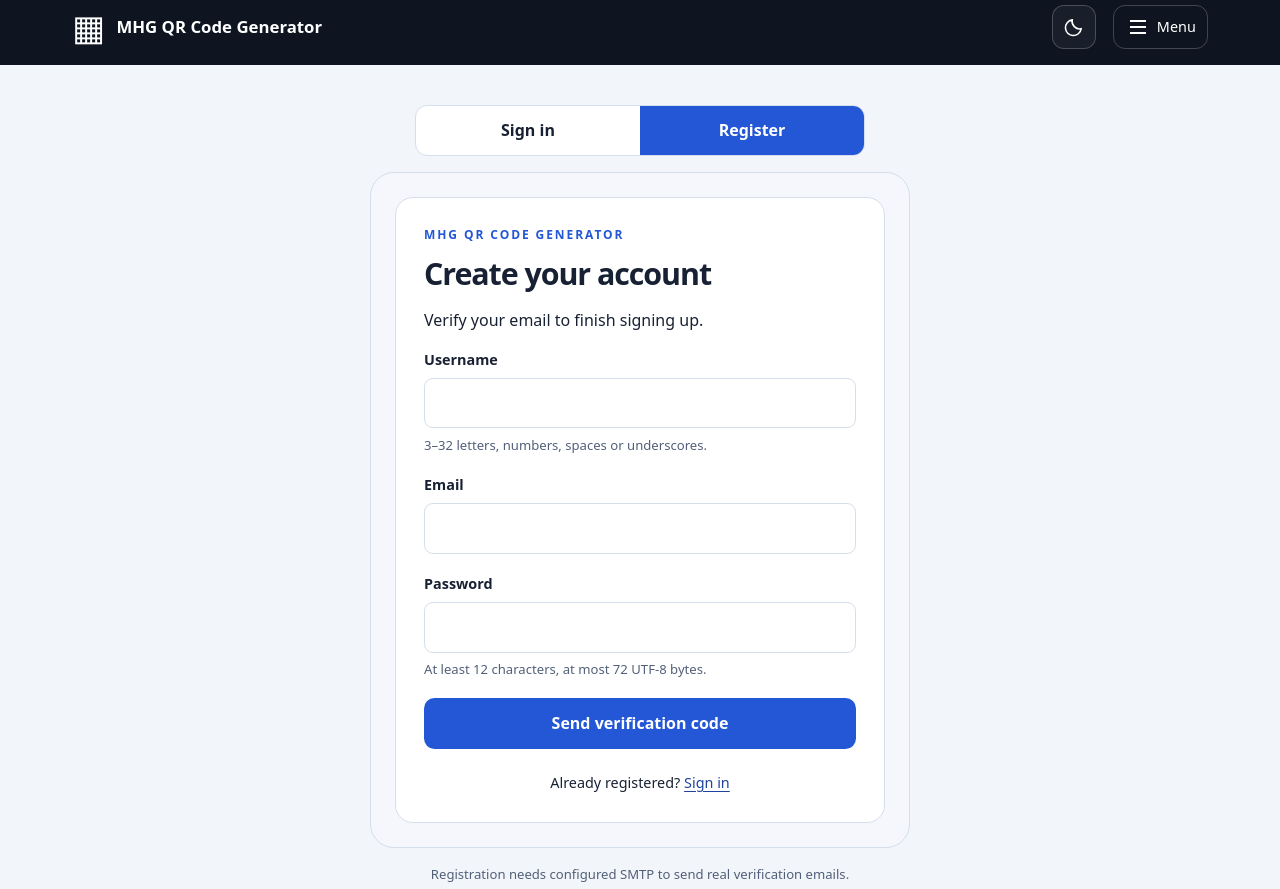
Test: registration requires a server challenge and passes proof to account creation
Type "person" into the field labelled "Username".
click(640, 403); type("person")  # box [424,378,856,428]
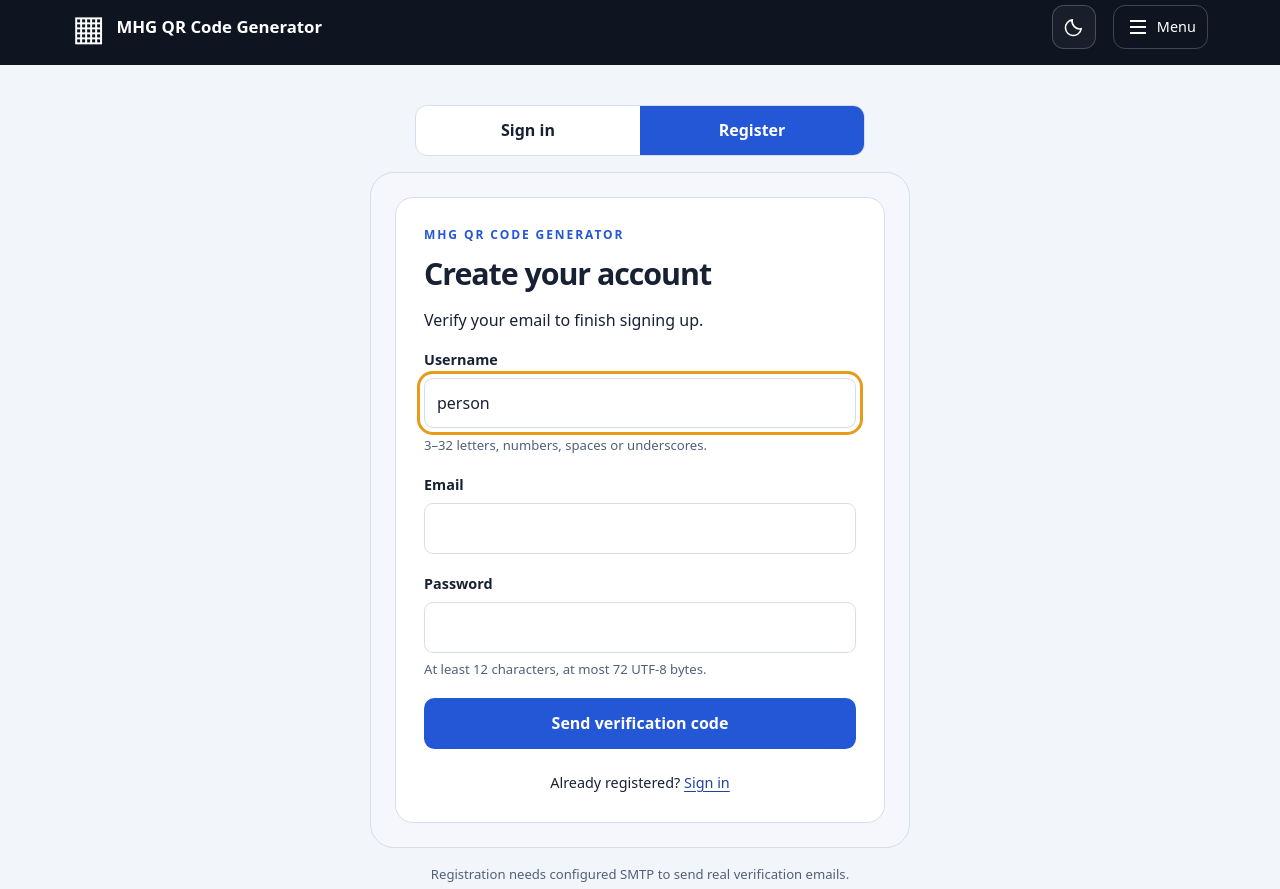
Type "person@example.com" into the field labelled "Email".
click(640, 528); type("person@example.com")  # box [424,503,856,554]
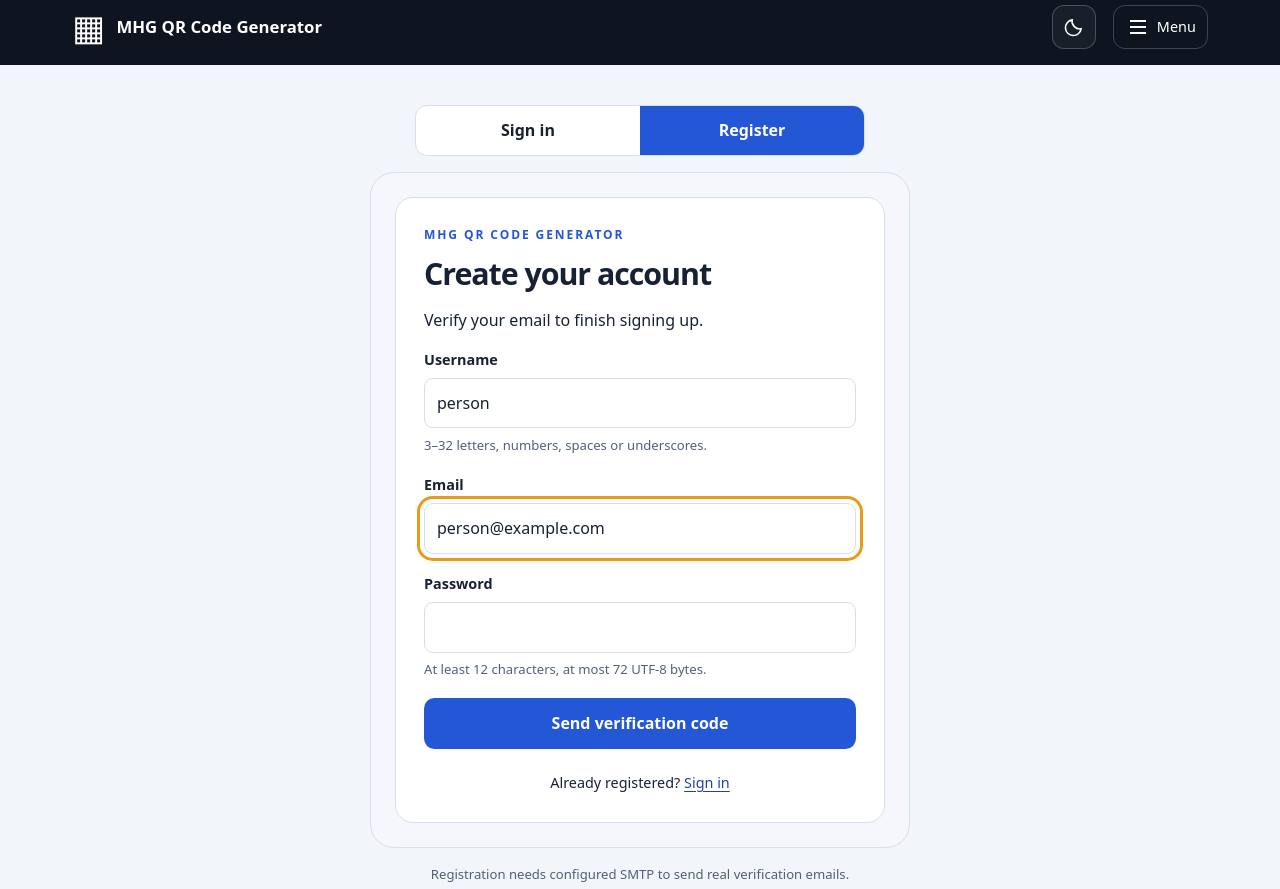
Type "long secret password" into the password field labelled "Password".
click(640, 627); type("long secret password")  # box [424,602,856,652]
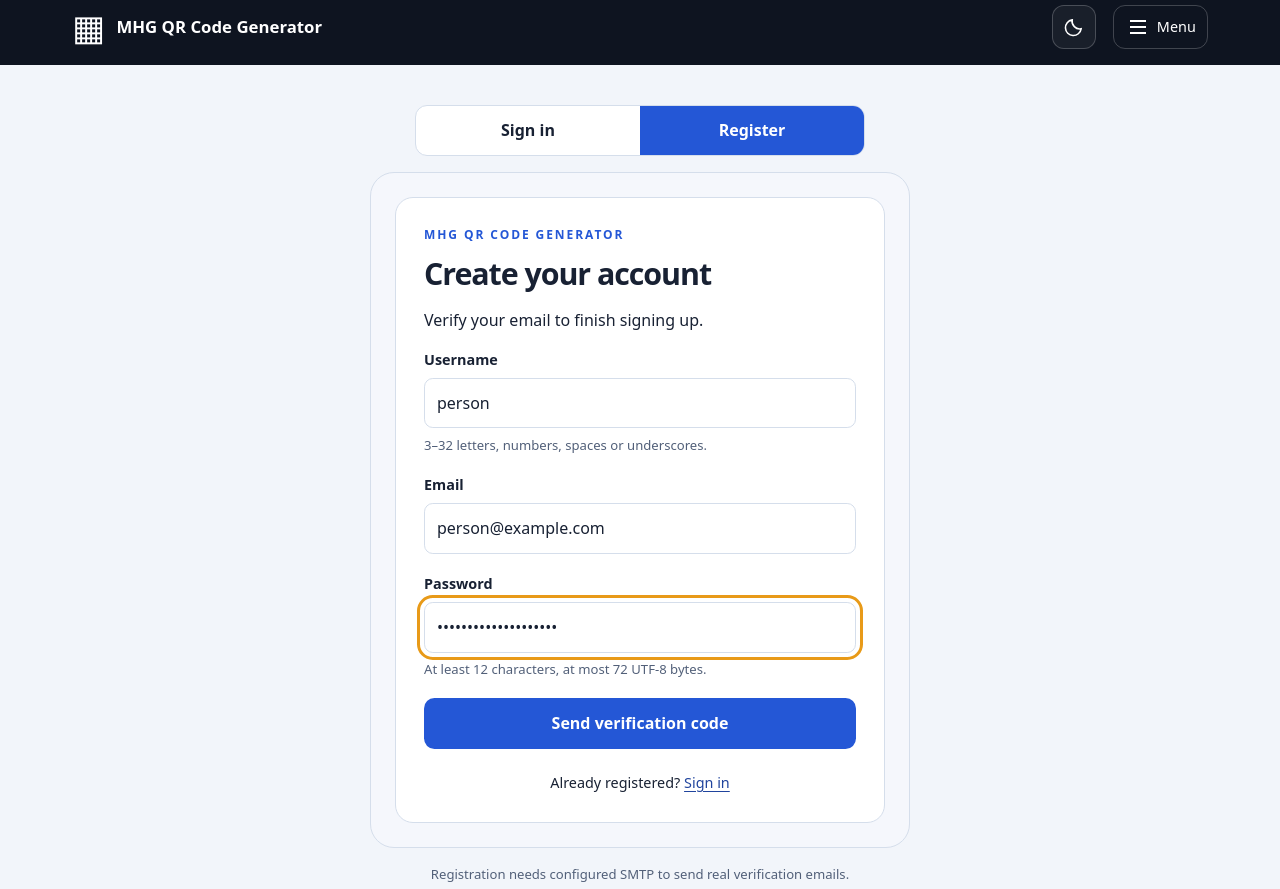
Click the button "Send verification code".
click(640, 724)  # box [424,698,856,749]
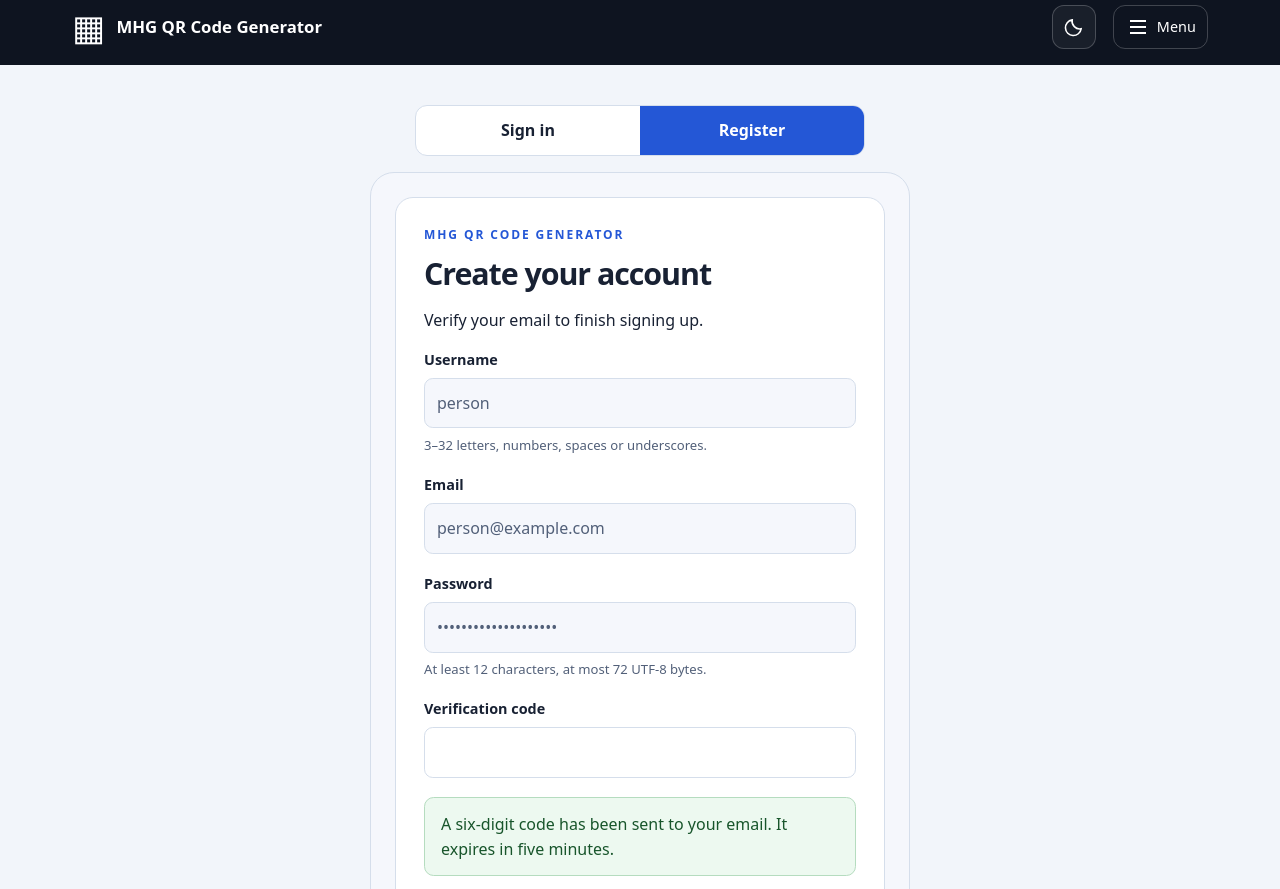
Expected: the field labelled "Verification code" is shown
Type "123456" into the field labelled "Verification code".
click(640, 753); type("123456")  # box [424,727,856,778]
(page scrolled)
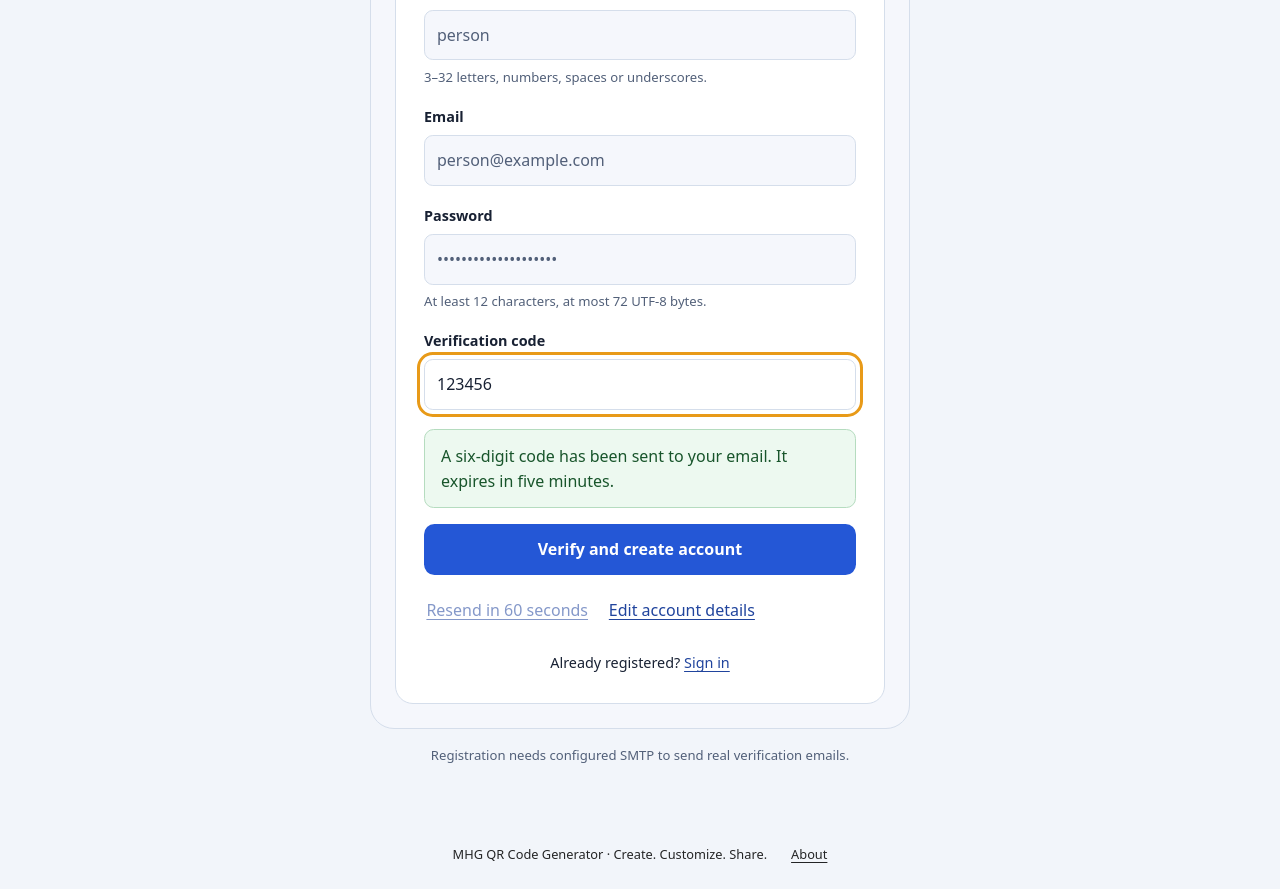
Click the button "Verify and create account".
click(640, 549)  # box [424,524,856,575]
(page scrolled)
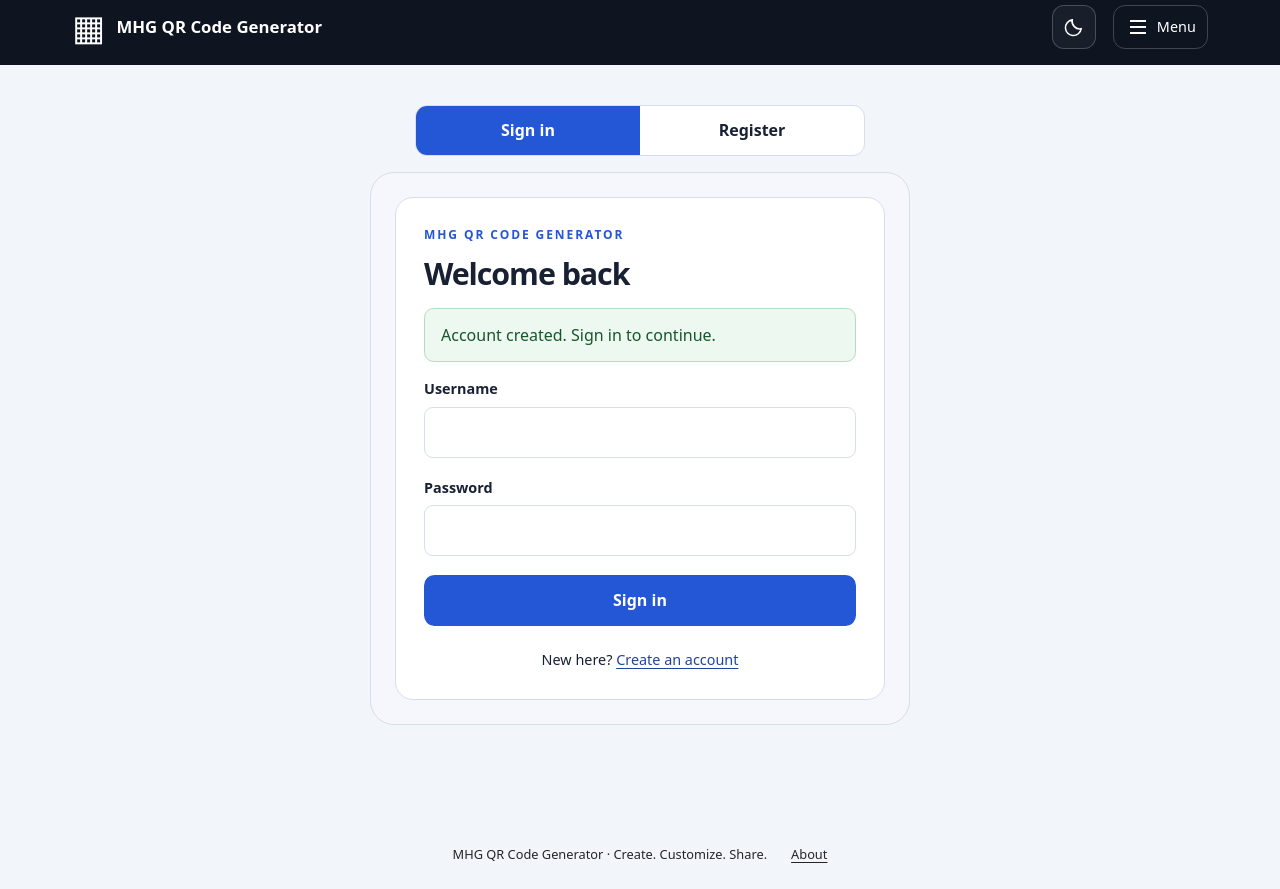
Expected: the heading "Welcome back" is shown, [424,253,629,294]
